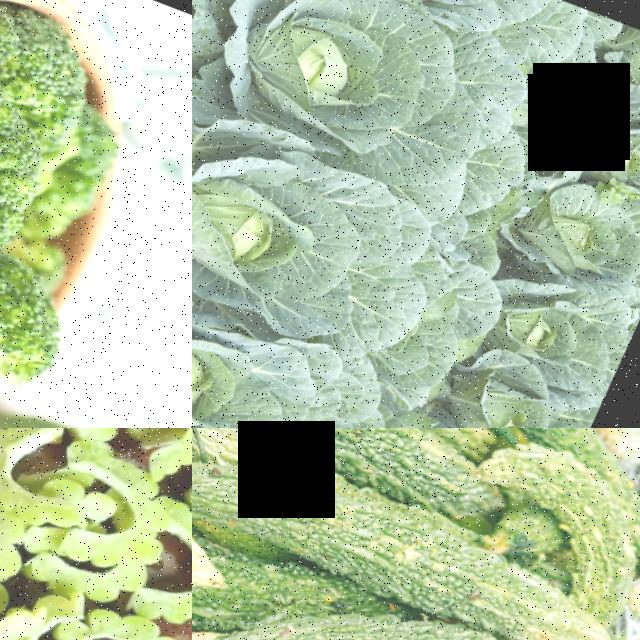bitter gourd: (192, 428, 620, 640), (192, 428, 466, 537), (493, 436, 640, 569), (365, 594, 566, 640), (472, 428, 640, 473), (261, 612, 354, 640)
broccoli: (0, 1, 118, 137), (0, 265, 84, 425), (0, 68, 65, 259)
cabbage: (192, 82, 410, 389), (192, 0, 474, 193), (192, 260, 307, 428)
